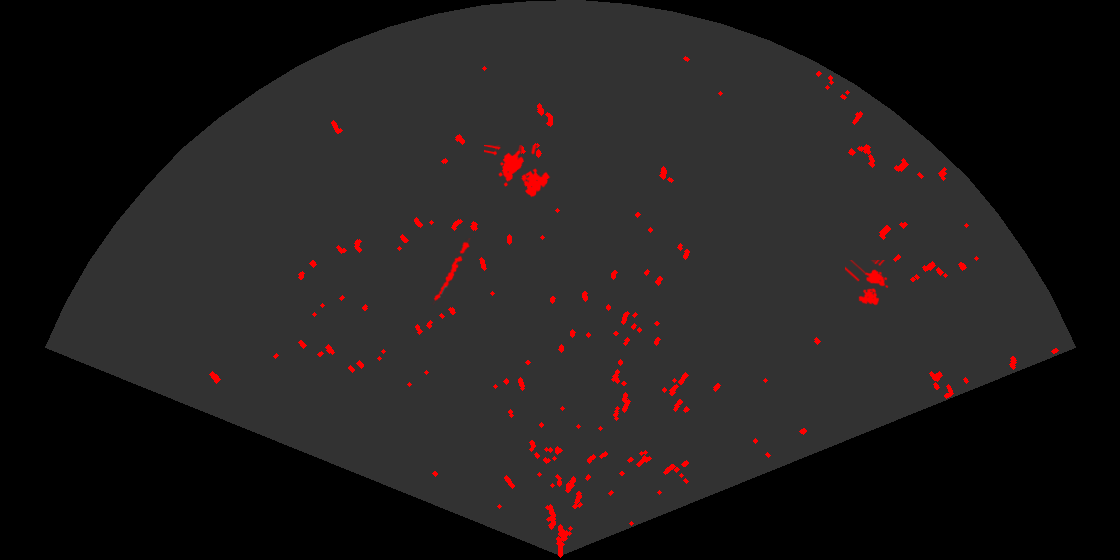cage: (484, 145, 552, 199), (845, 260, 890, 307)
chain: (431, 238, 472, 306)
